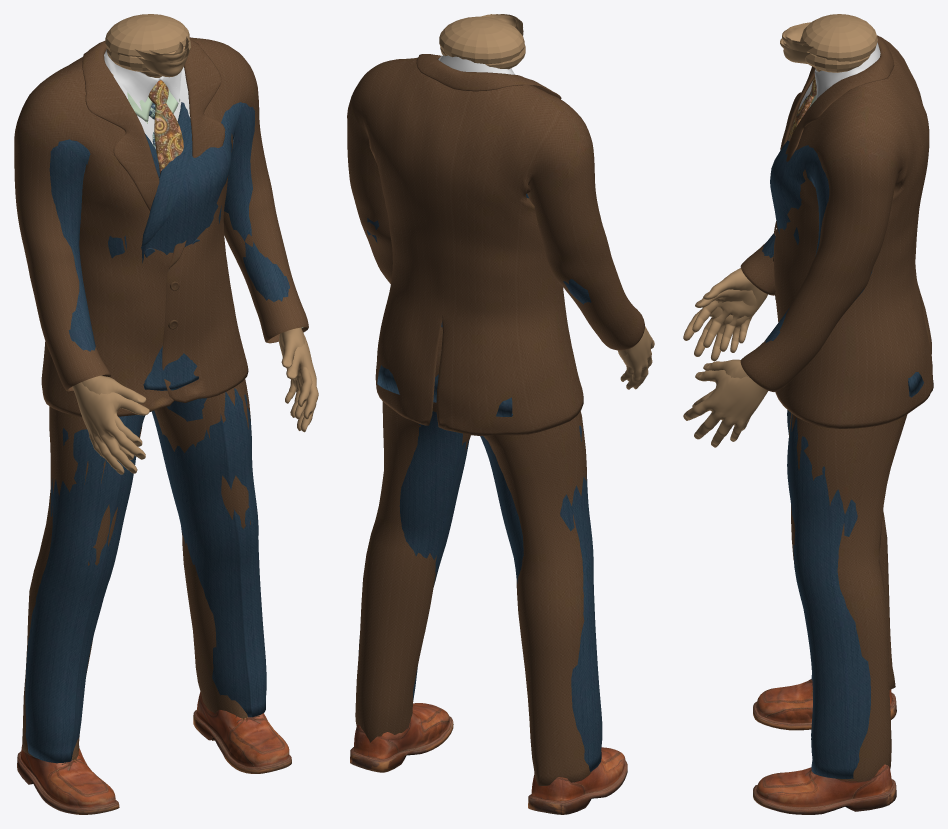
File: walker-window-suits.glb
3 renders of one model, left to right at view 1: azimuth 30°, elevation 25°; view 2: azimuth 150°, elevation 25°; view 3: azimuth 270°, elevation 25°, orthographic.
Parts seen in each view (by area): view 1: Fitted wool suit.001, Fitted wool suit, Beech neck and hands, Oxford shoes, Oxford shoes.001, Beech neck and hands.001, Turned neck cap.001, Turned neck cap; view 2: Fitted wool suit.001, Fitted wool suit, Oxford shoes.001, Turned neck cap.001, Oxford shoes, Beech neck and hands; view 3: Fitted wool suit.001, Fitted wool suit, Beech neck and hands, Oxford shoes, Beech neck and hands.001, Oxford shoes.001, Turned neck cap.001, Turned neck cap.
Boxes of the visible parts, x1=… form: Fitted wool suit.001: x1=14, y1=37, x2=308, y2=759; Fitted wool suit: x1=25, y1=89, x2=303, y2=763; Beech neck and hands: x1=72, y1=47, x2=318, y2=474; Oxford shoes: x1=17, y1=713, x2=291, y2=814; Oxford shoes.001: x1=17, y1=692, x2=273, y2=809; Beech neck and hands.001: x1=81, y1=36, x2=312, y2=460; Turned neck cap.001: x1=105, y1=14, x2=189, y2=57; Turned neck cap: x1=106, y1=39, x2=190, y2=71; Fitted wool suit.001: x1=347, y1=54, x2=644, y2=785; Fitted wool suit: x1=358, y1=193, x2=602, y2=771; Oxford shoes.001: x1=350, y1=704, x2=622, y2=814; Turned neck cap.001: x1=439, y1=16, x2=524, y2=64; Oxford shoes: x1=350, y1=703, x2=627, y2=814; Beech neck and hands: x1=516, y1=26, x2=654, y2=389; Fitted wool suit.001: x1=740, y1=35, x2=933, y2=781; Fitted wool suit: x1=762, y1=95, x2=923, y2=778; Beech neck and hands: x1=683, y1=38, x2=821, y2=447; Oxford shoes: x1=753, y1=679, x2=890, y2=814; Beech neck and hands.001: x1=692, y1=22, x2=813, y2=436; Oxford shoes.001: x1=754, y1=685, x2=896, y2=808; Turned neck cap.001: x1=800, y1=14, x2=877, y2=61; Turned neck cap: x1=800, y1=39, x2=870, y2=72.
Bounding box in the file's own units: 0.5307 × 1.56 × 0.4787.
5 materials, 4 textured.
